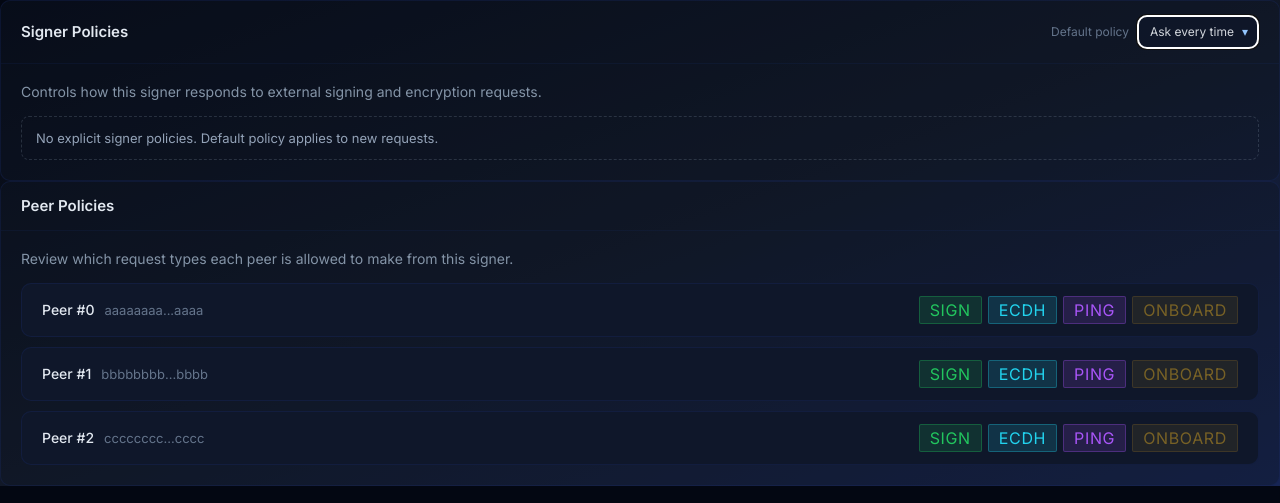
Test: DefaultPolicyDropdown — semantics + keyboard + ARIA (VAL-POLICIES-011/012/013/019/022) › outside click closes the menu without selection
Step 1. Press Enter in the dropdown named "default policy", box [1137,15,1259,49]
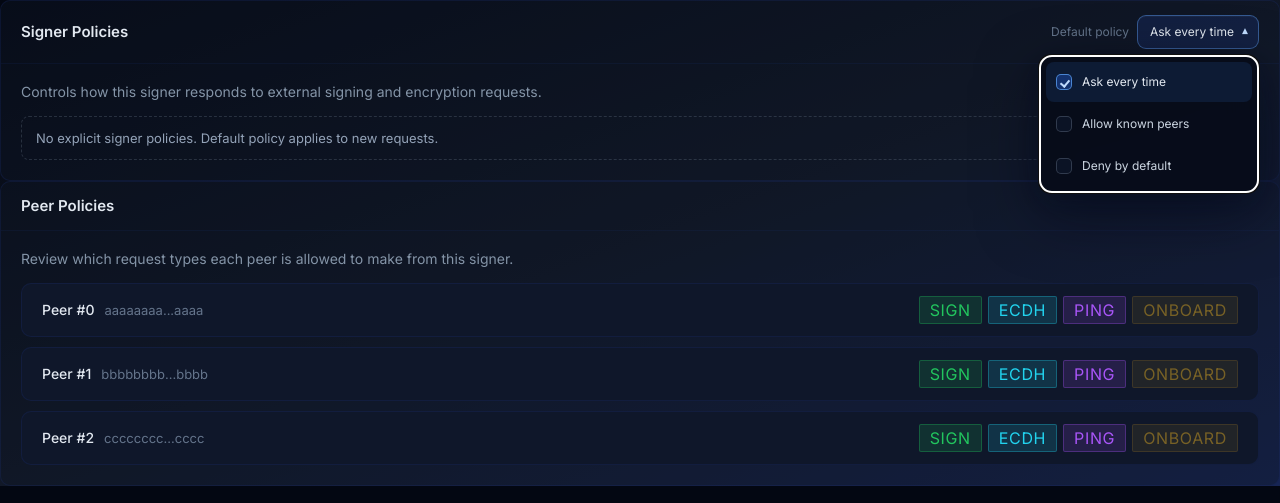
Expected: the dropdown named "default policy" is expanded, [1137,15,1259,49]
Step 2. Press the mouse on the element that starts with "Signer Policies" → point(640, 243), box [0,0,1279,486]
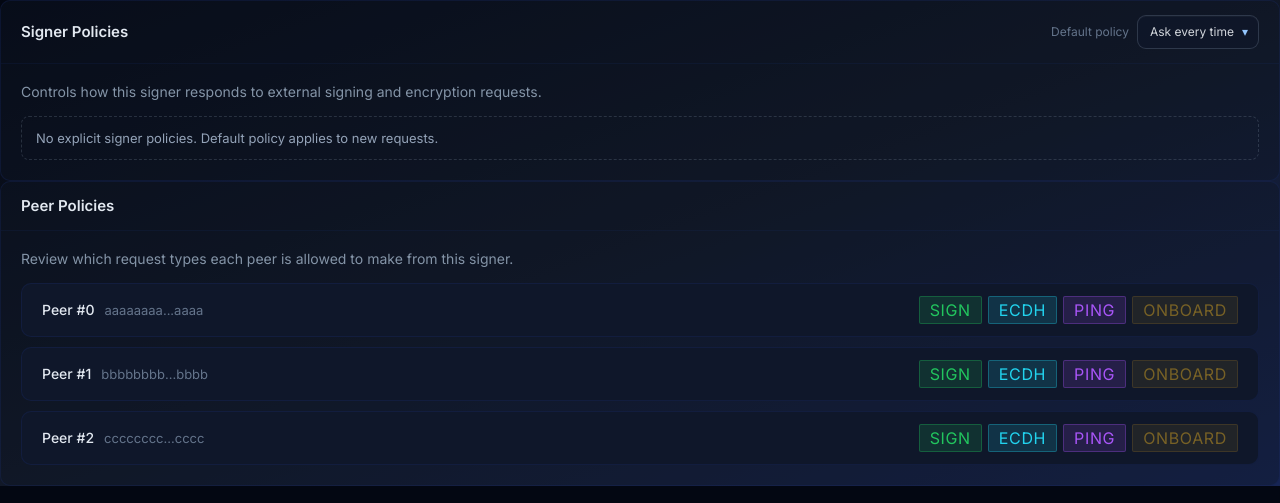
Expected: the dropdown named "default policy" is collapsed, [1137,15,1259,49]
